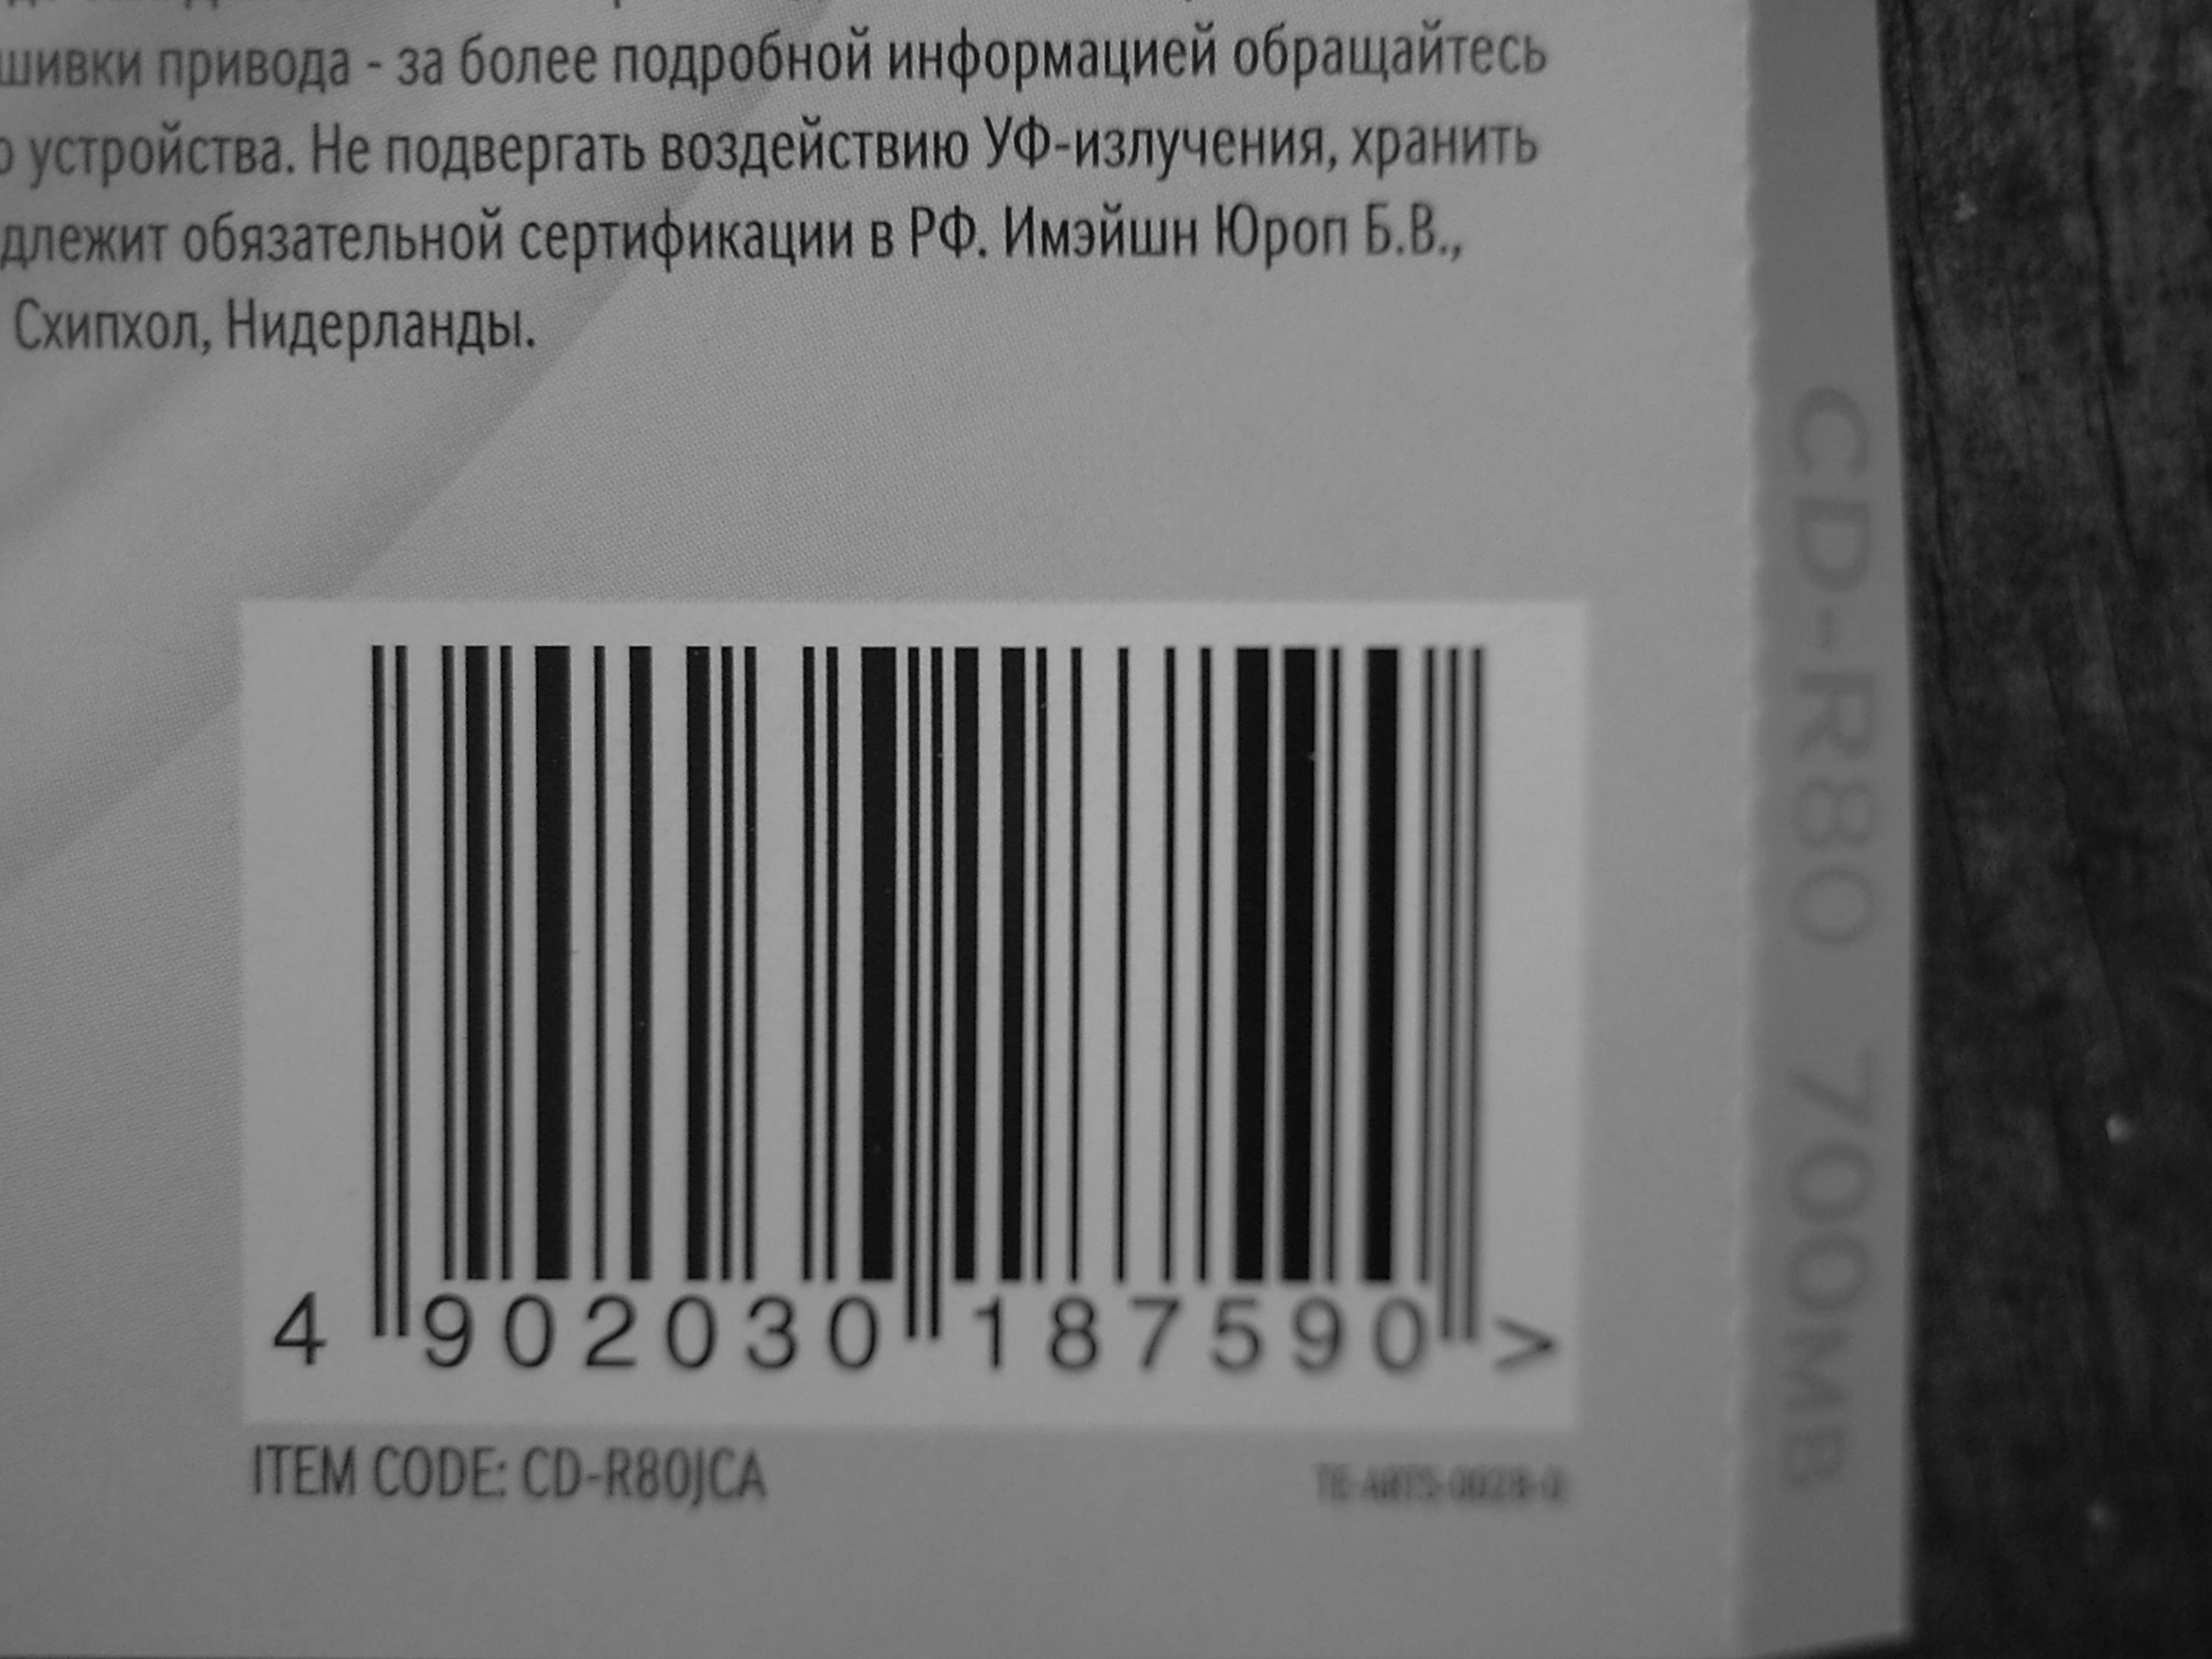Barcode: (322, 582, 1517, 1378)
